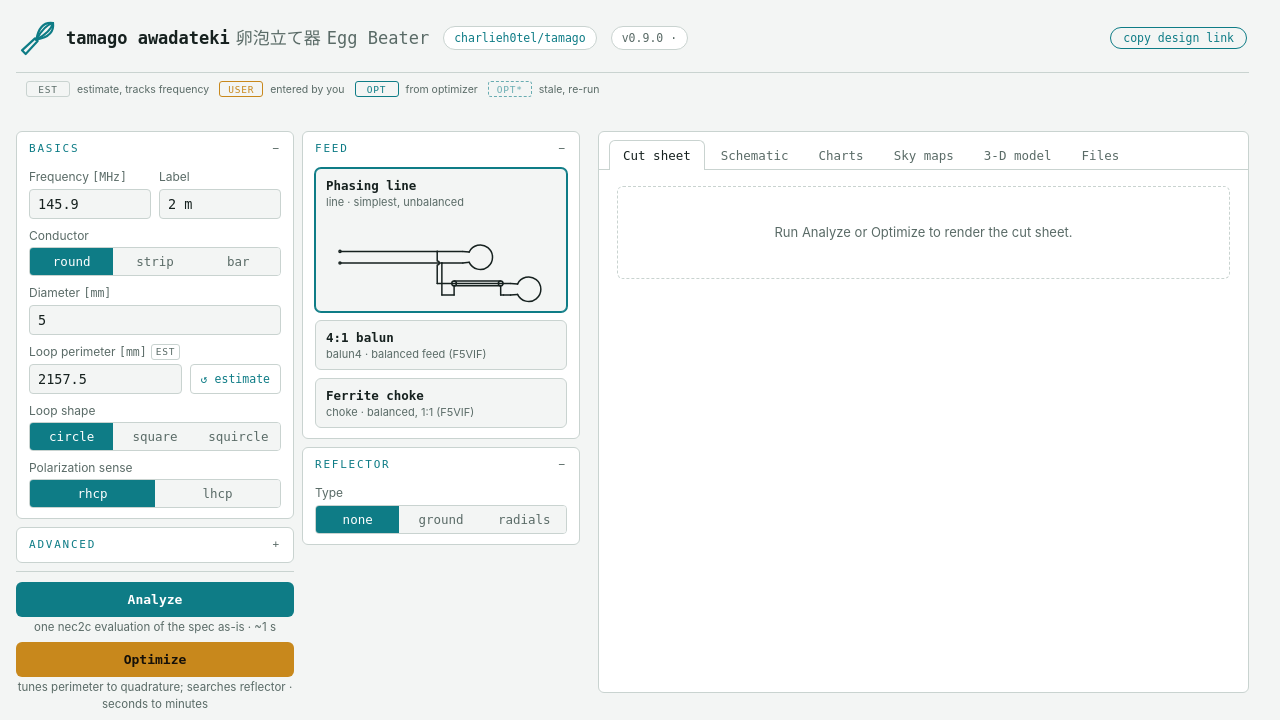
Test case: reflector clearance in two units › marks each box with its own unit and never a length as the wavelength
Click the button "ground": {"x": 441, "y": 519} [399, 506, 483, 533]
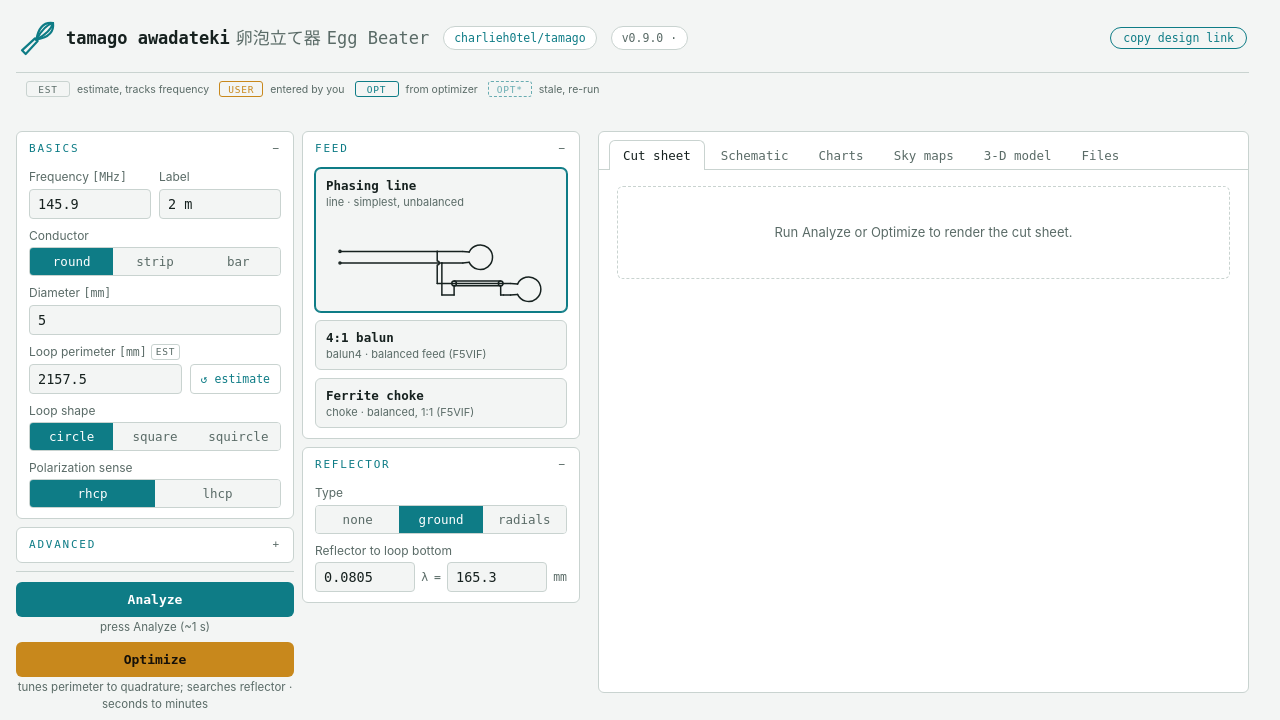
Now the text "=" is shown, box [434, 569, 441, 586]
